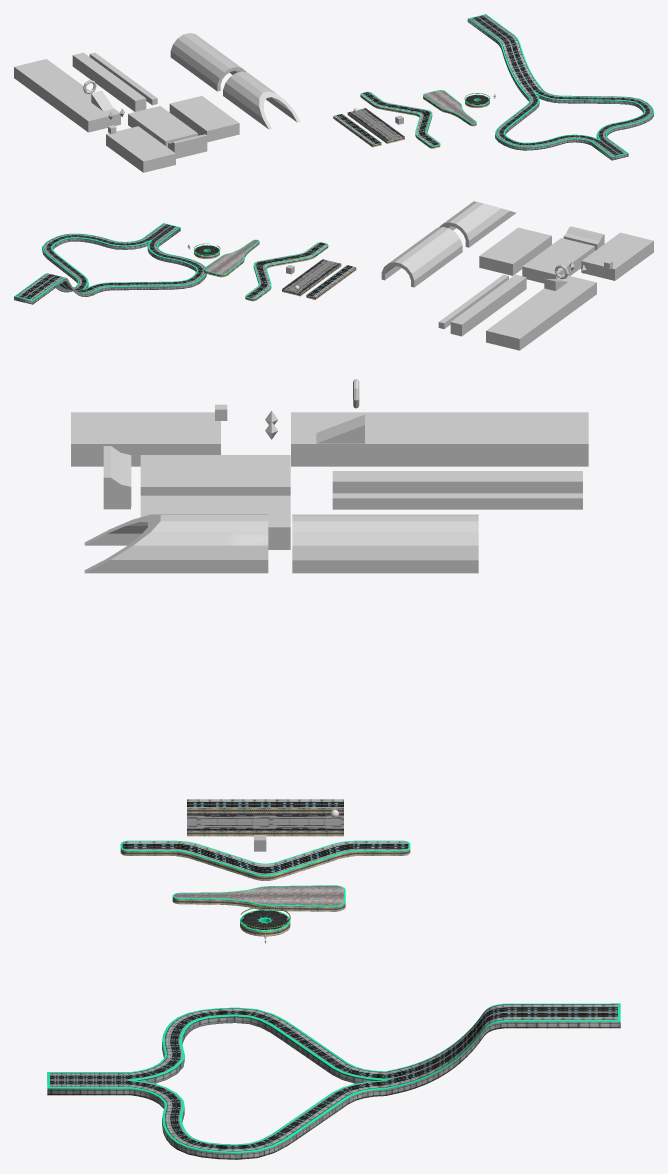
The model's file is Ball.FBX.
3 views of the same model, one above another, from view 1: azimuth 30°, elevation 25°; view 2: azimuth 150°, elevation 25°; view 3: azimuth 270°, elevation 25° (orthographic). The views are drawn at different scales.
Parts seen in each view (by area): view 1: Line006, HamB, Path-01, HamA, Path-01 1 Boost, Path-01.002, Path-01.003, Path-1line, Path-01.001, Object002, Box001, Plane002 (+5 smaller); view 2: Line006, HamB, Path-01.003, Path-01 1 Boost, Path-01, Path-01.001, HamA, Path-1line, Path-01.002, Object002, Box001, Plane002 (+4 smaller); view 3: Line006, HamB, HamA, Path-01.003, Path-01.002, Path-01, Path-01.001, Path-1line, Object002, Path-1line.Red, Path-01 1 Boost, Box001 (+4 smaller).
Part boxes in pixels (<box>): Line006: <box>467,14,653,160</box>; HamB: <box>170,33,246,91</box>; Path-01: <box>106,126,175,172</box>; HamA: <box>223,71,300,129</box>; Path-01 1 Boost: <box>169,96,239,142</box>; Path-01.002: <box>51,86,120,132</box>; Path-01.003: <box>14,59,83,105</box>; Path-1line: <box>72,52,146,111</box>; Path-01.001: <box>128,106,197,147</box>; Object002: <box>360,91,440,148</box>; Box001: <box>347,108,404,143</box>; Plane002: <box>423,90,476,126</box>; Line006: <box>14,223,206,304</box>; HamB: <box>381,227,462,287</box>; Path-01.003: <box>486,302,558,350</box>; Path-01 1 Boost: <box>479,227,551,275</box>; Path-01: <box>581,232,653,280</box>; Path-01.001: <box>522,238,594,283</box>; HamA: <box>438,201,515,247</box>; Path-1line: <box>450,274,526,336</box>; Path-01.002: <box>525,274,596,322</box>; Object002: <box>245,242,328,301</box>; Box001: <box>282,259,341,296</box>; Plane002: <box>203,239,259,277</box>; Line006: <box>47,1003,620,1159</box>; HamB: <box>292,514,478,573</box>; HamA: <box>84,514,268,573</box>; Path-01.003: <box>438,412,588,466</box>; Path-01.002: <box>291,412,440,466</box>; Path-01: <box>71,412,220,466</box>; Path-01.001: <box>140,455,290,495</box>; Path-1line: <box>332,471,582,493</box>; Object002: <box>120,840,410,880</box>; Path-1line.Red: <box>332,493,582,509</box>; Path-01 1 Boost: <box>140,495,290,549</box>; Box001: <box>187,813,343,836</box>.
Size of the model in its own units: 5032 by 1169 by 2291.
